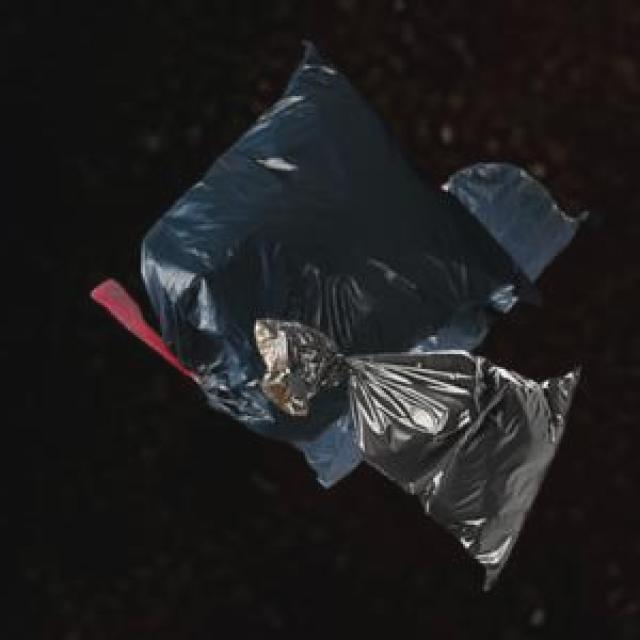Trashbag: (248, 312, 581, 594), (449, 148, 588, 284)
